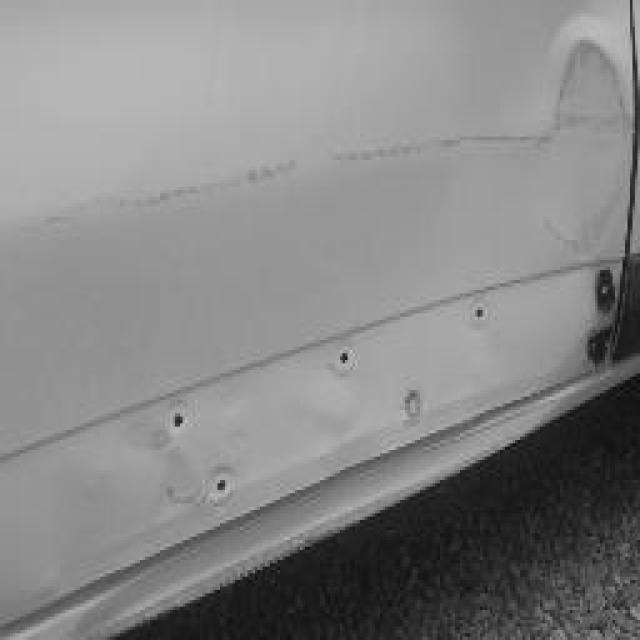Door: (5, 0, 640, 513)
